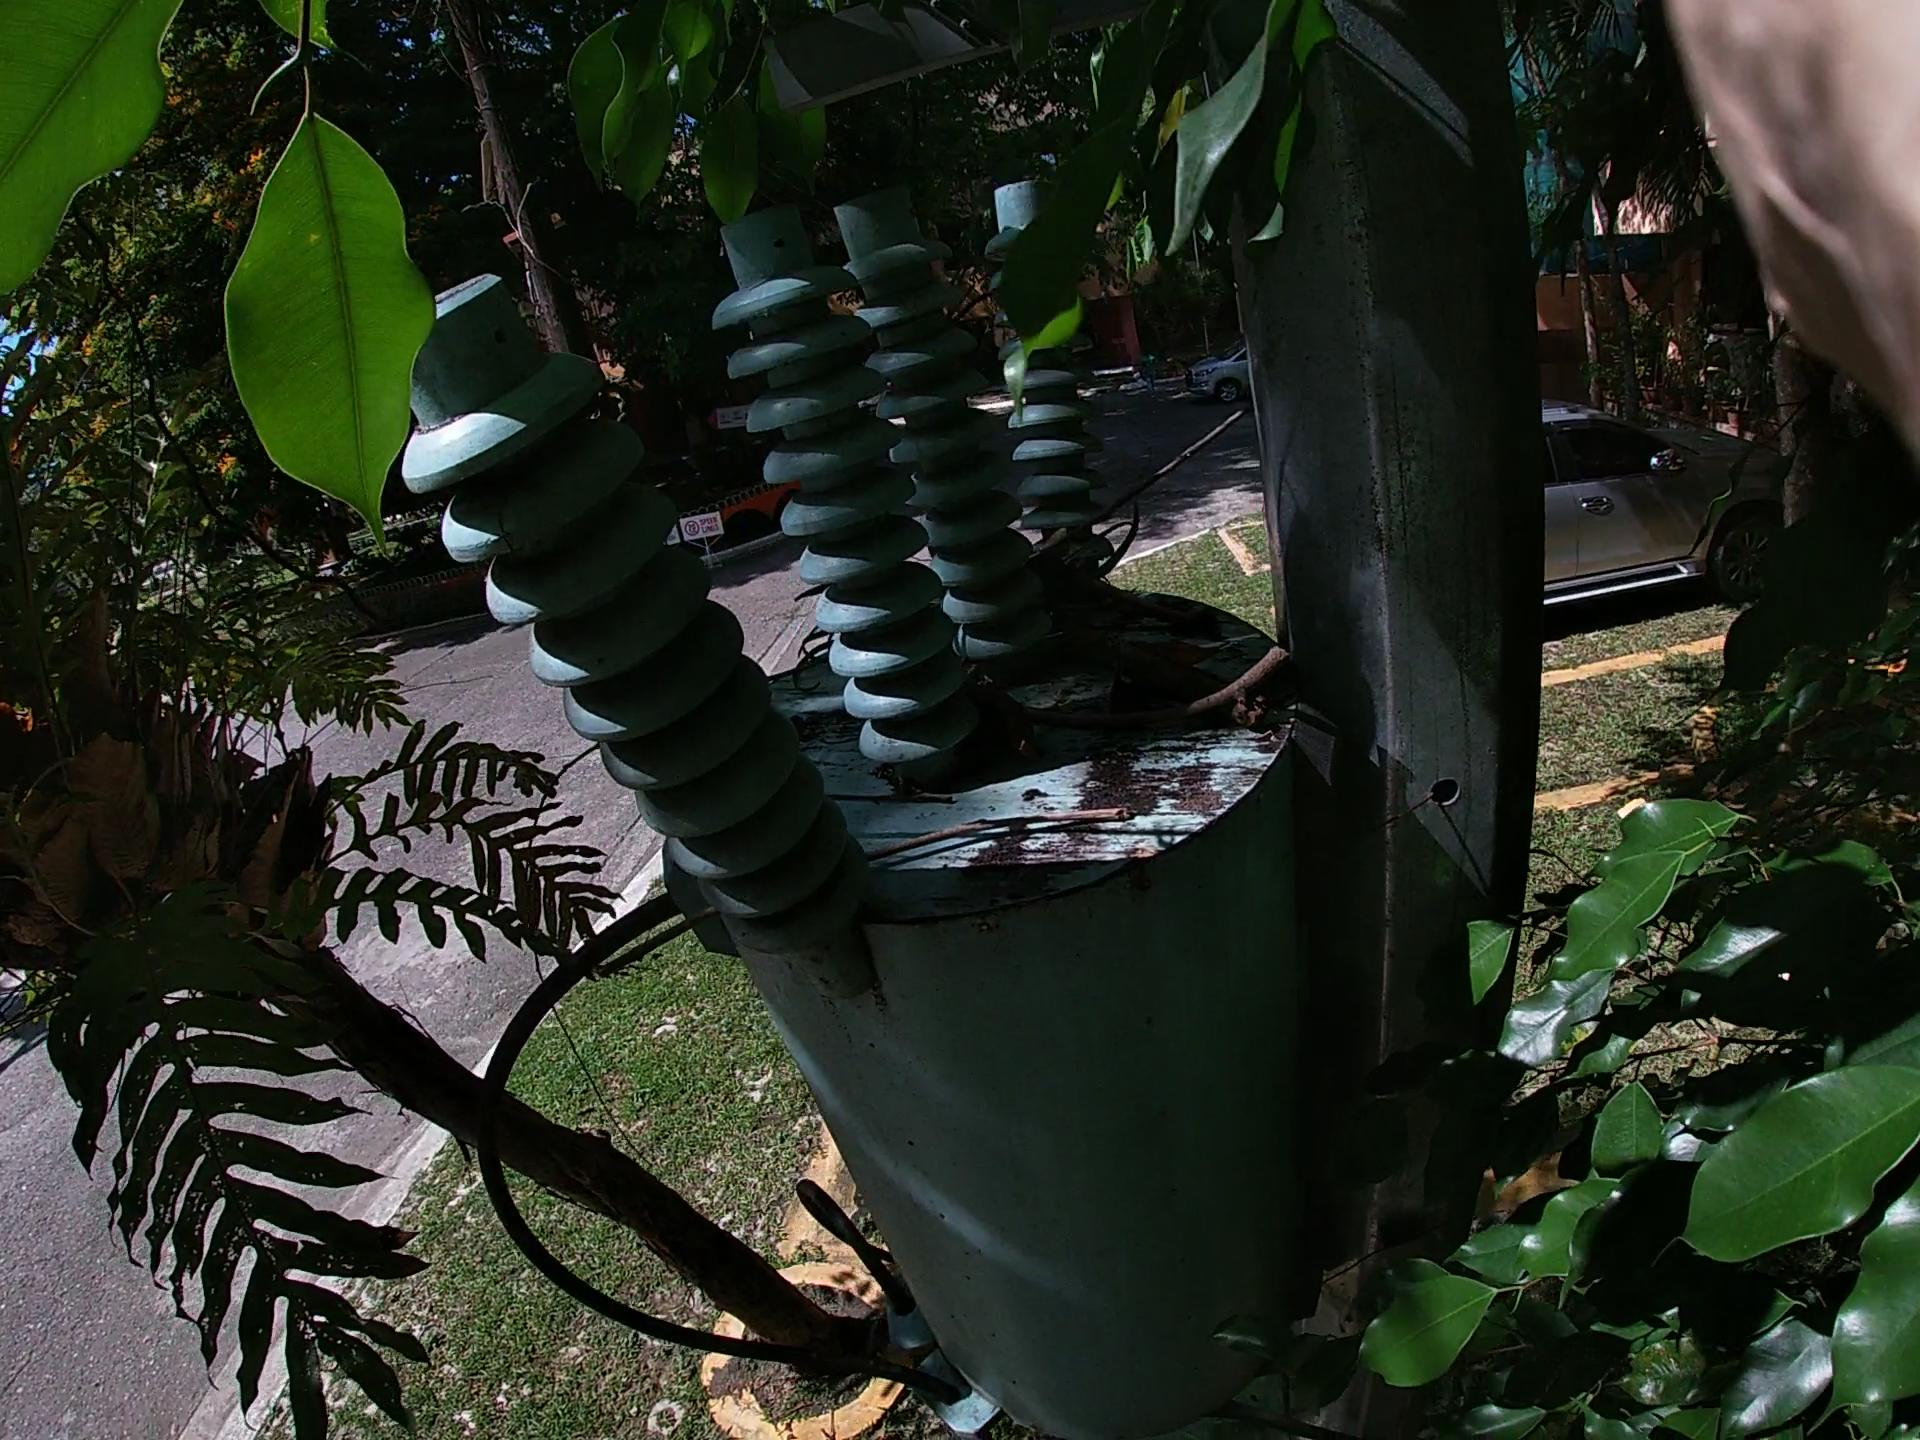branch with leaves: (949, 501, 1330, 791)
leaf: (1110, 613, 1200, 690)
tree branch: (646, 764, 1137, 1009), (874, 340, 1199, 702), (980, 646, 1389, 774), (1019, 510, 1223, 626)
